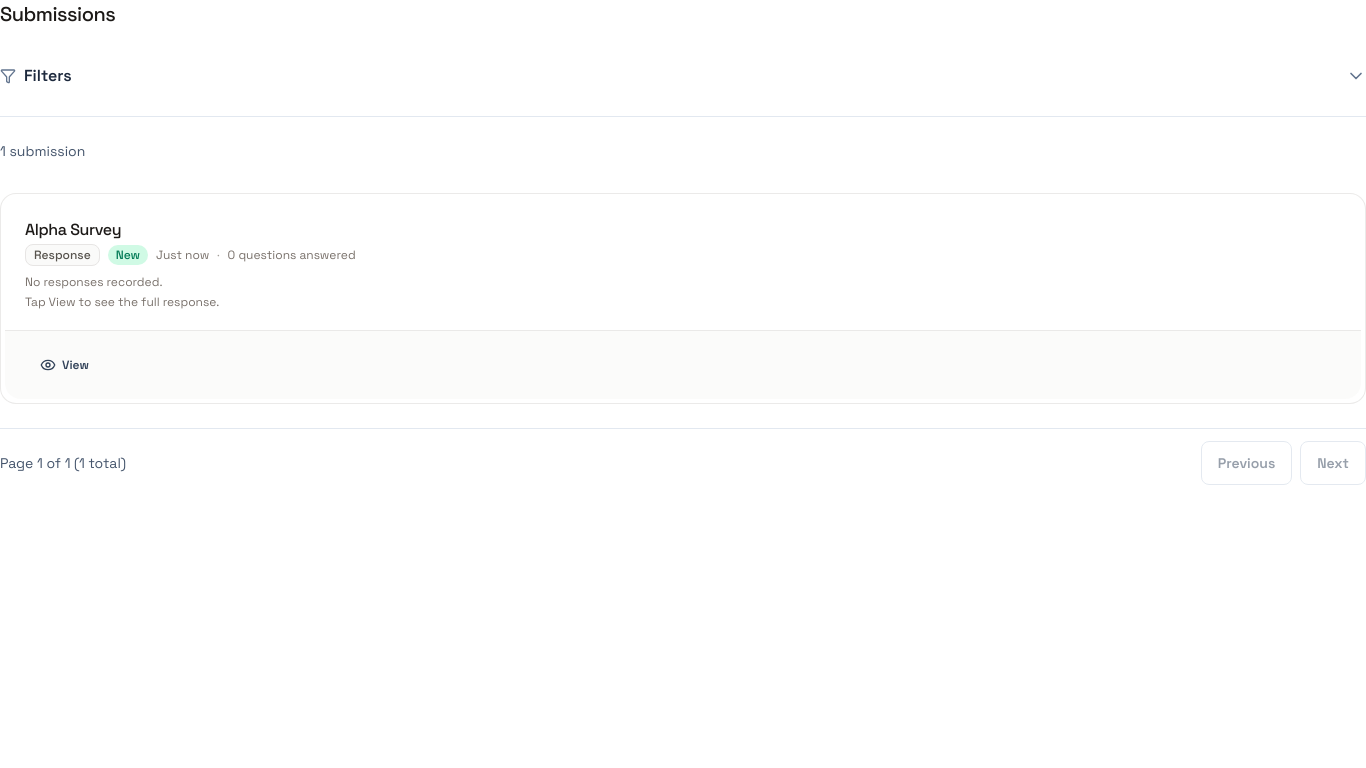
Scenario: SubmissionsPage › modal dismisses on backdrop click
Click the button "View".
click(64, 365)  # box [25, 347, 104, 383]
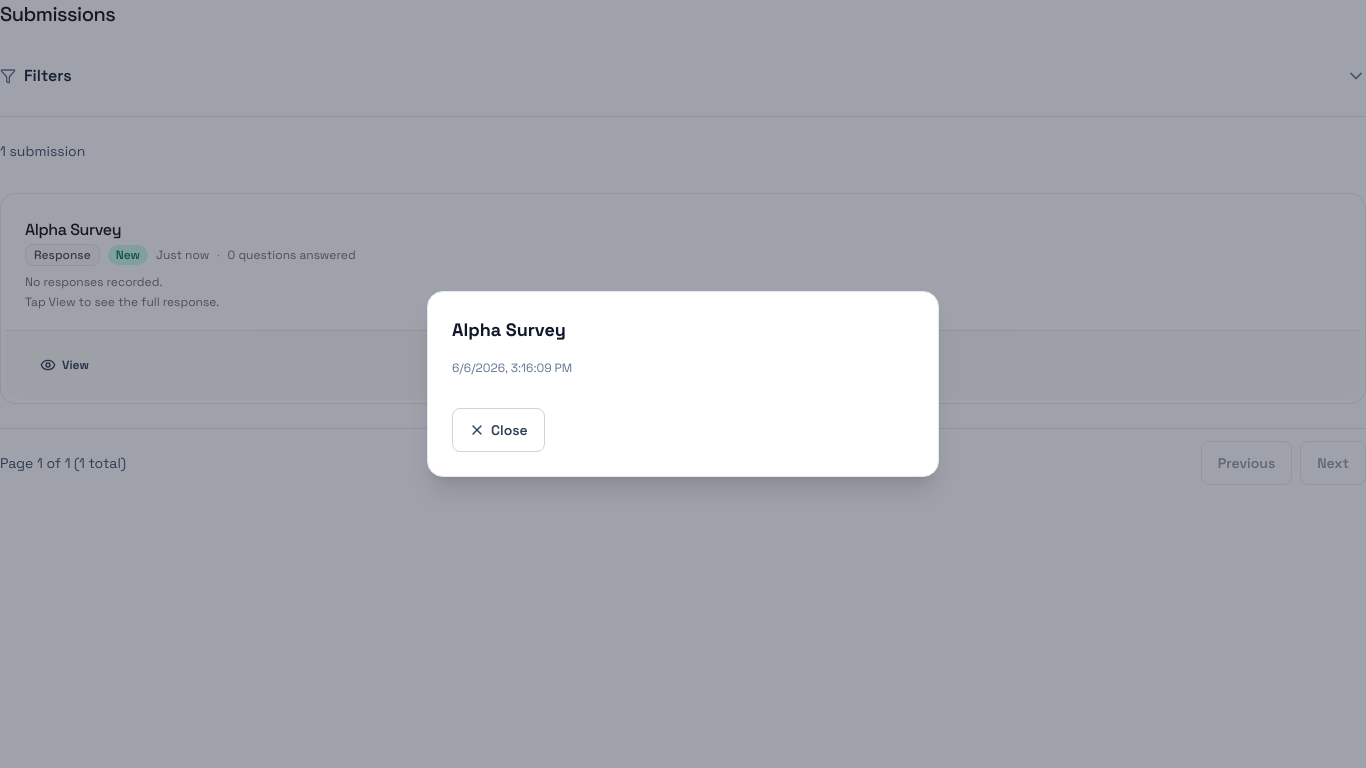
expect the button "Close" is shown: met, box [452, 408, 545, 452]
# Click the backdrop (the fixed overlay div, not the inner card)
Click the dialog with class "inset-0".
click(82, 384)  # box [0, 0, 1365, 767]
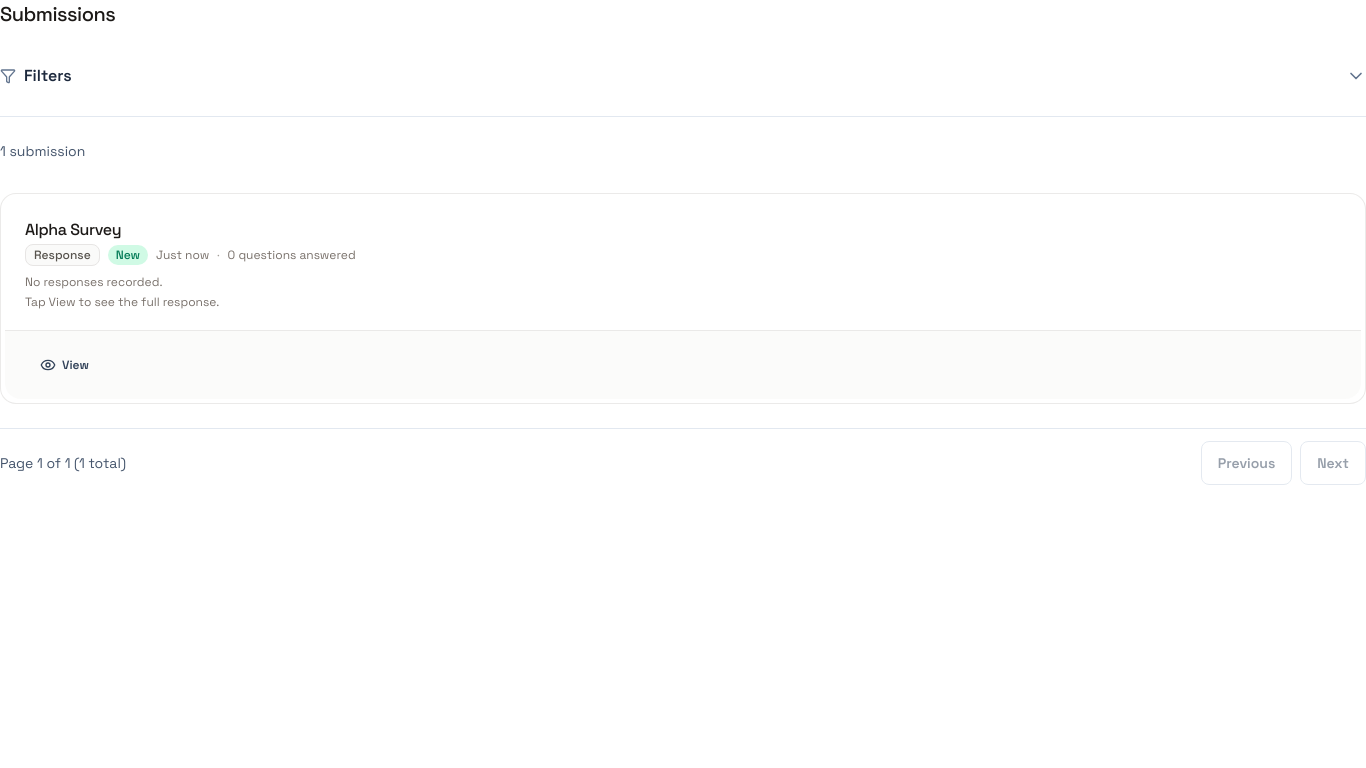
expect the button "Close" is gone: met
